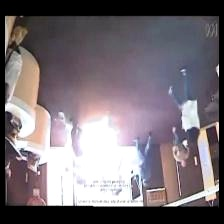fire: (66, 111, 122, 181)
